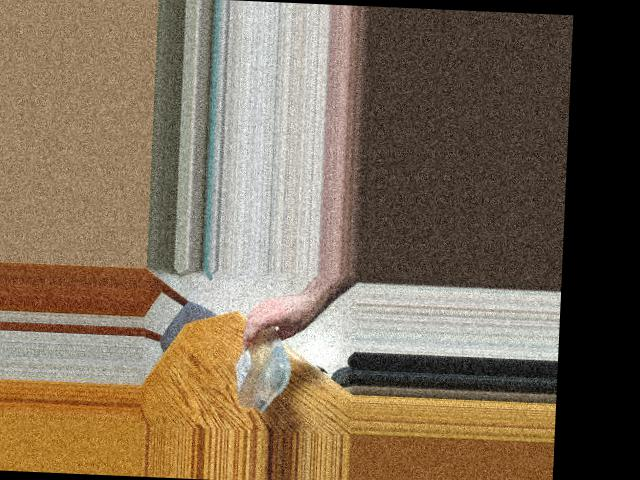cheese: (231, 308, 289, 413)
